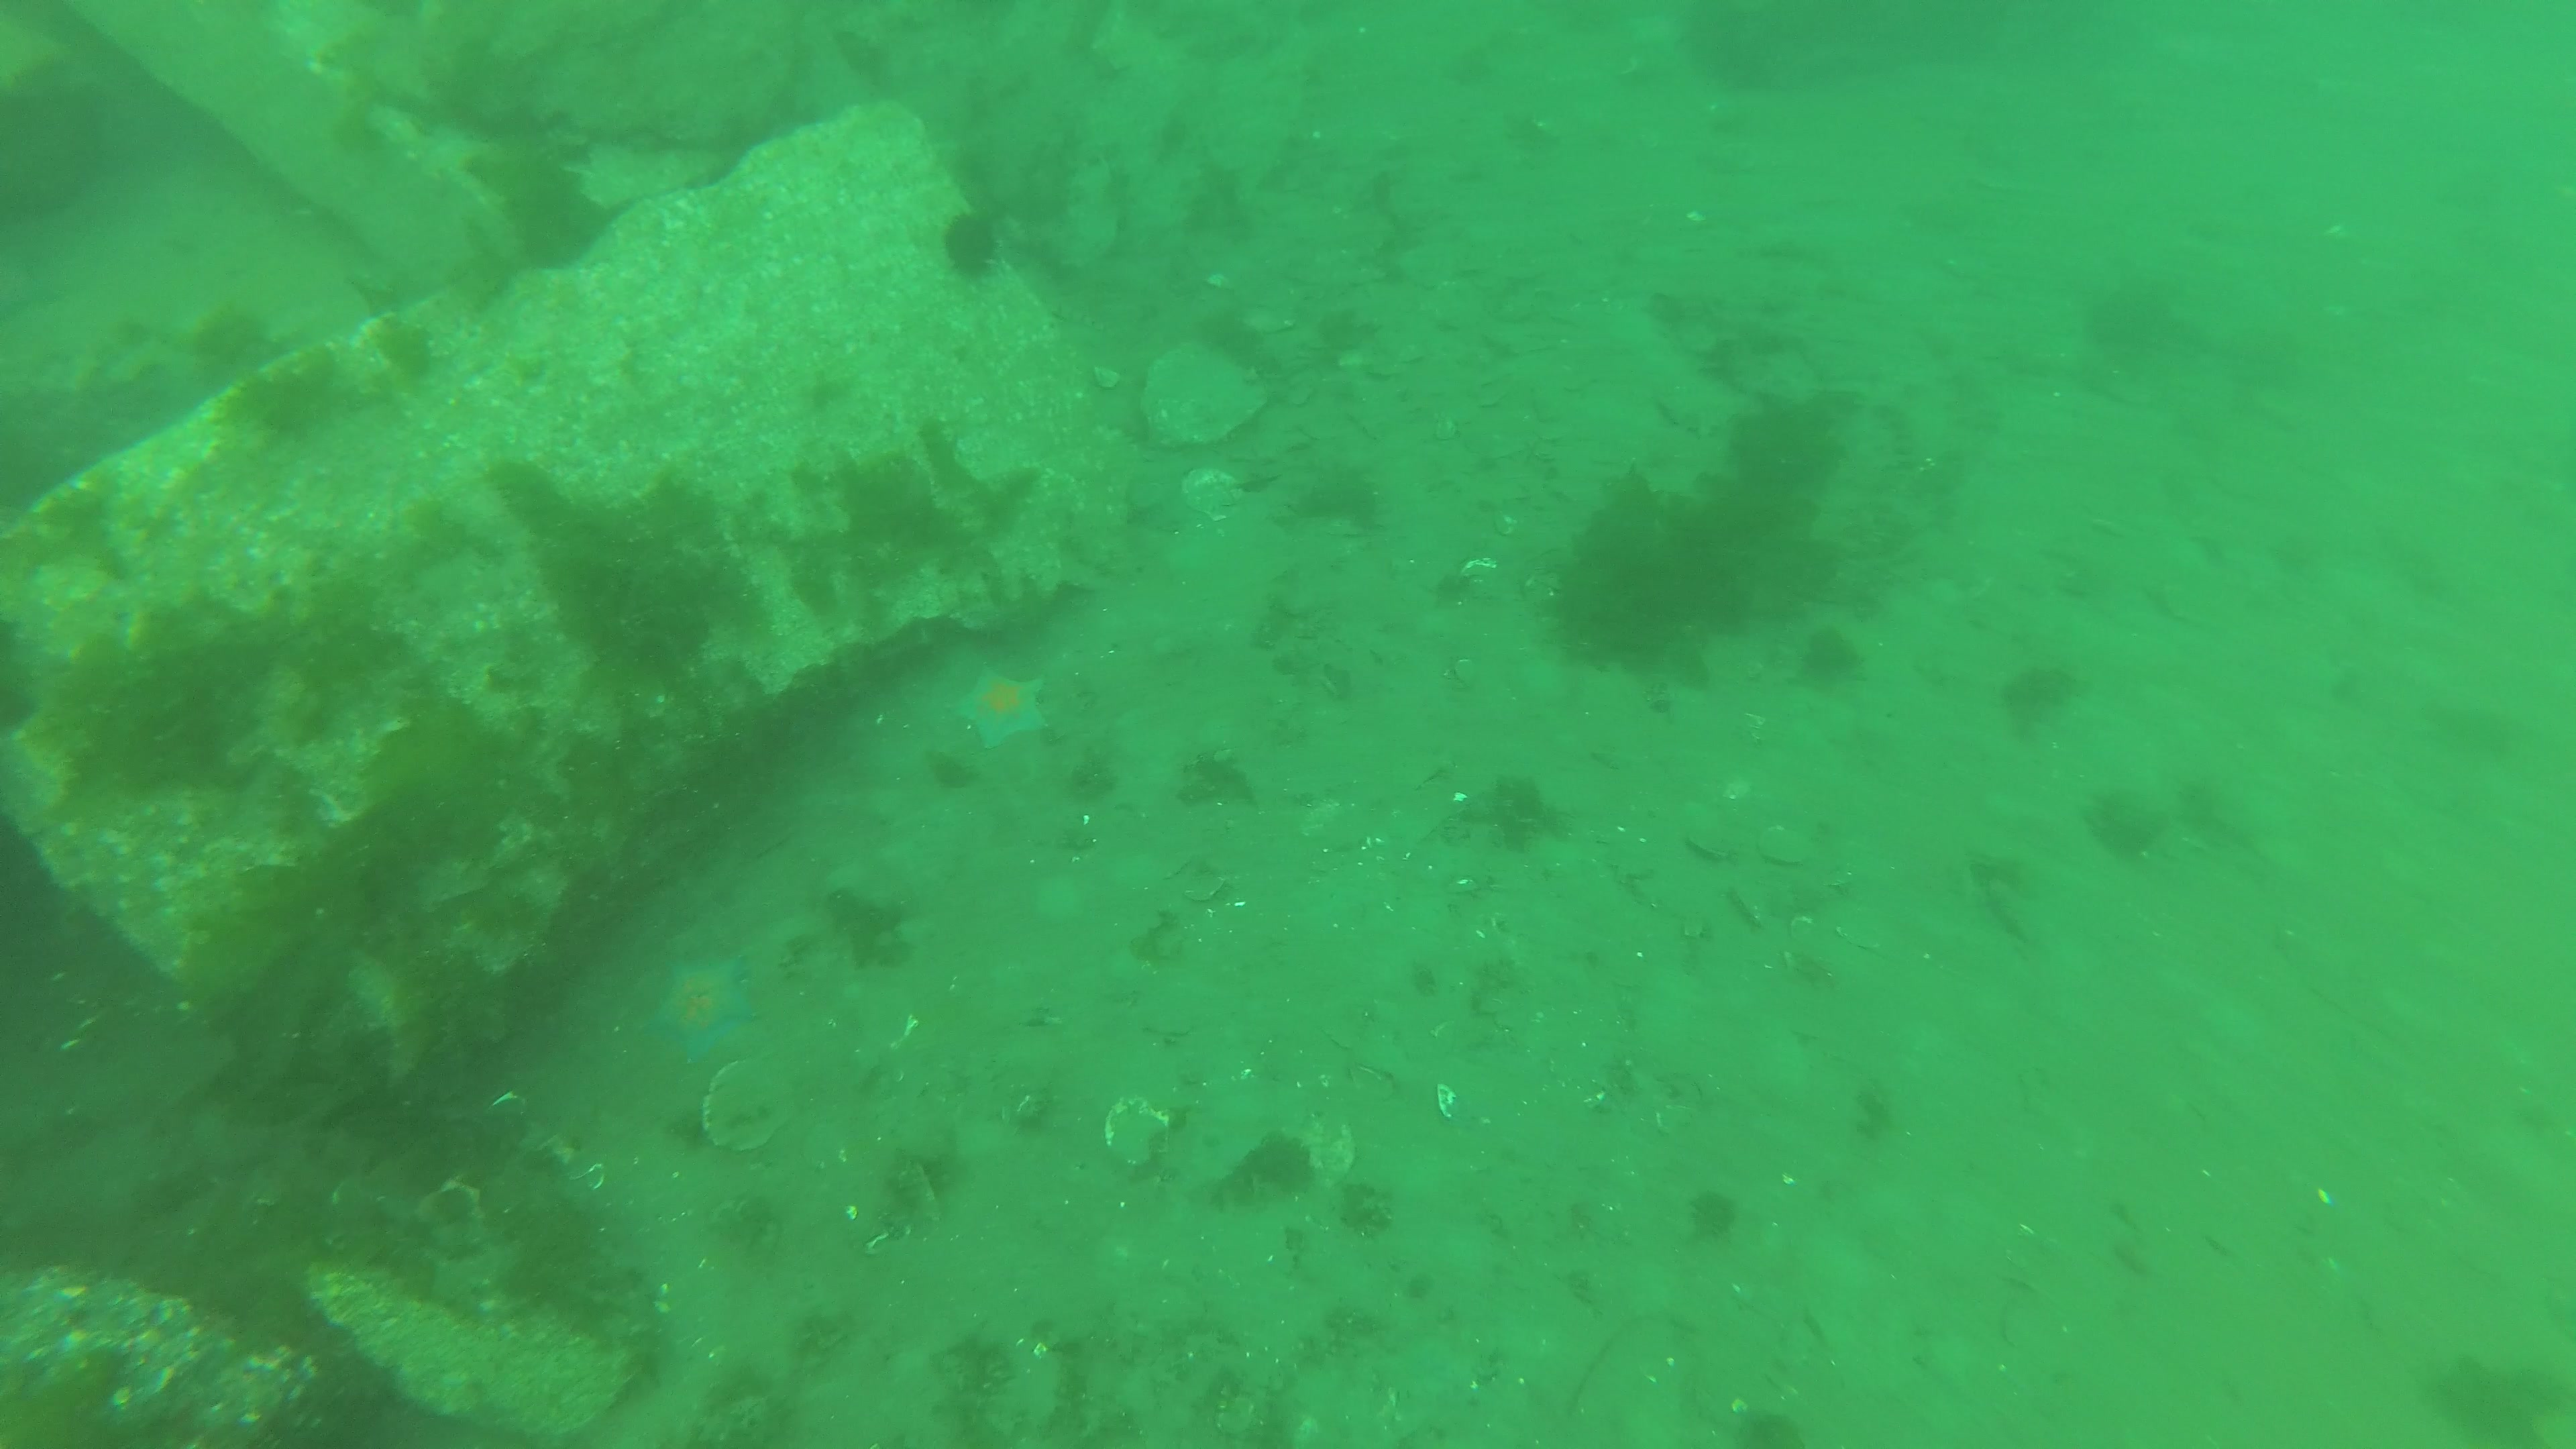echinus: (941, 211, 1000, 280)
scallop: (702, 1058, 800, 1155), (1102, 1092, 1171, 1169), (1180, 462, 1246, 524)
starfish: (649, 954, 754, 1063), (954, 663, 1051, 752), (1628, 11, 1690, 55)
